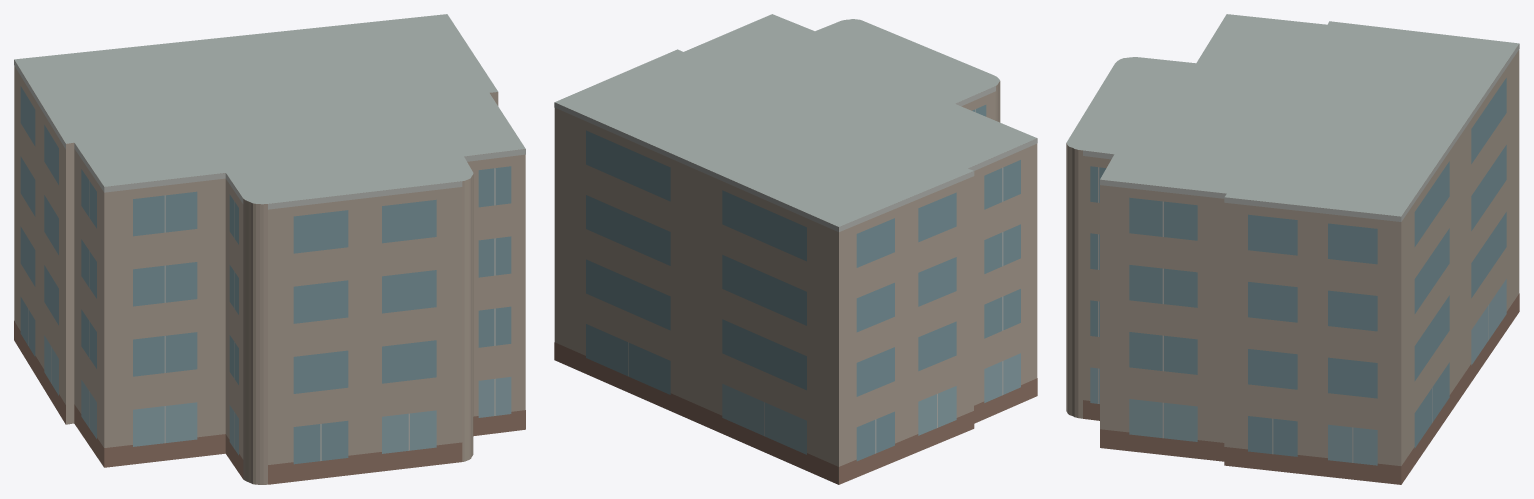
File: survey-upis-32950358.glb
3 views of the same model, side by side, from view 1: azimuth 30°, elevation 25°; view 2: azimuth 150°, elevation 25°; view 3: azimuth 270°, elevation 25° (orthographic). The views are drawn at different scales.
Parts seen in each view (by area): view 1: survey-upis-32950358.tmp; view 2: survey-upis-32950358.tmp; view 3: survey-upis-32950358.tmp.
Boxes of the visible parts, bbox=[...] form: survey-upis-32950358.tmp: bbox=[14, 14, 525, 484]; survey-upis-32950358.tmp: bbox=[554, 14, 1037, 484]; survey-upis-32950358.tmp: bbox=[1066, 14, 1519, 484].
Bounding box in the file's own units: 19.37 × 11.96 × 18.31.
